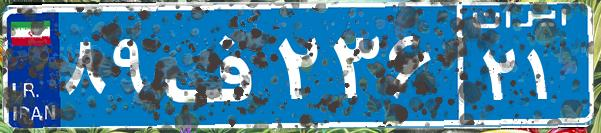1: (525, 38, 570, 115)
2: (273, 28, 330, 110), (475, 38, 525, 113)
3: (330, 28, 385, 110)
6: (385, 28, 445, 110)
8: (57, 26, 110, 107)
9: (110, 28, 158, 105)
ف: (158, 15, 273, 115)
